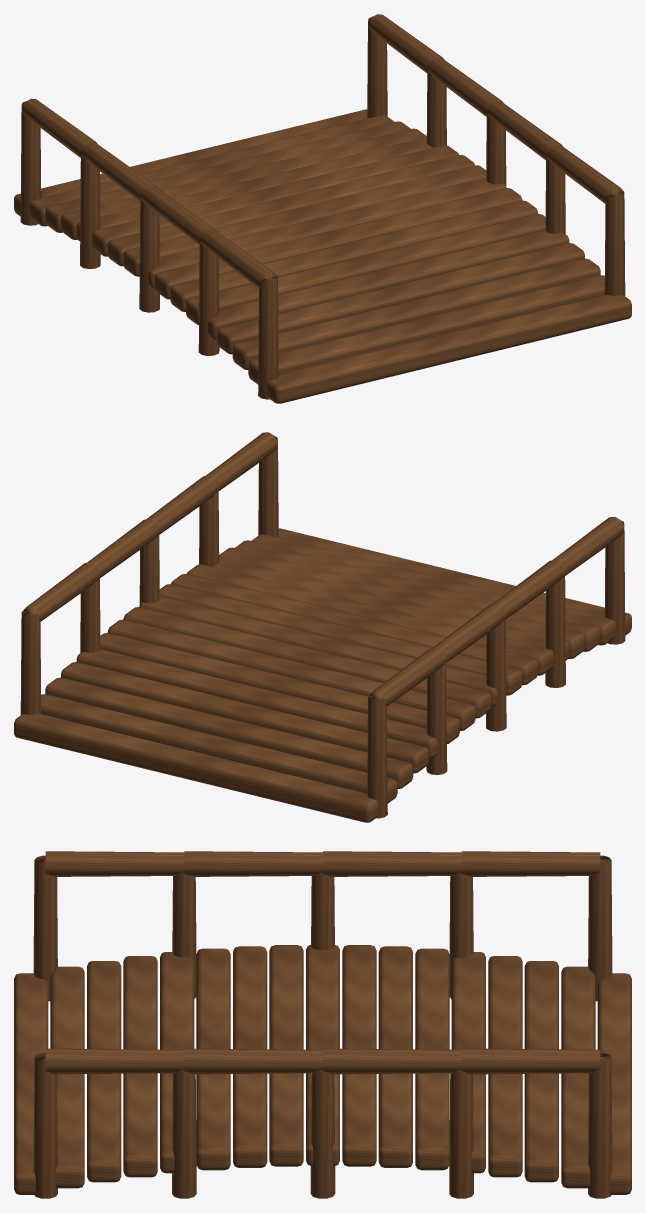
File: timber_bridge.glb
3 views of the same model, one above another, from view 1: azimuth 30°, elevation 25°; view 2: azimuth 150°, elevation 25°; view 3: azimuth 270°, elevation 25° (orthographic). The views are drawn at different scales.
Visible parts, largest first — view 1: Bridge oak deck, Bridge oak deck.001, Bridge oak deck.002, Bridge oak deck.003, Bridge oak deck.004, Bridge oak deck.005, Bridge oak deck.006, Bridge oak deck.007, Bridge oak deck.008, Bridge oak deck.009, Bridge oak deck.010, Bridge oak deck.011 (+23 smaller); view 2: Bridge oak deck.016, Bridge oak deck.015, Bridge oak deck.014, Bridge oak deck.013, Bridge oak deck.012, Bridge oak deck.011, Bridge oak deck.010, Bridge oak deck.009, Bridge oak deck.008, Bridge oak deck.007, Bridge oak deck.006, Bridge oak deck.005 (+23 smaller); view 3: Bridge oak deck.011, Bridge oak deck.003, Bridge oak deck.007, Bridge oak deck.014, Bridge oak deck.010, Bridge oak deck.006, Bridge oak deck.005, Bridge oak deck.002, Bridge oak deck.009, Bridge oak deck.013, Bridge oak deck.015, Bridge oak deck.001 (+23 smaller).
Part boxes in pixels (x1=…): Bridge oak deck: x1=267, y1=294, x2=631, y2=403; Bridge oak deck.001: x1=248, y1=275, x2=604, y2=384; Bridge oak deck.002: x1=232, y1=258, x2=600, y2=369; Bridge oak deck.003: x1=217, y1=243, x2=584, y2=354; Bridge oak deck.004: x1=207, y1=230, x2=569, y2=339; Bridge oak deck.005: x1=186, y1=214, x2=545, y2=324; Bridge oak deck.006: x1=170, y1=200, x2=538, y2=311; Bridge oak deck.007: x1=154, y1=188, x2=522, y2=299; Bridge oak deck.008: x1=139, y1=177, x2=506, y2=287; Bridge oak deck.009: x1=123, y1=165, x2=486, y2=276; Bridge oak deck.010: x1=107, y1=155, x2=474, y2=266; Bridge oak deck.011: x1=92, y1=145, x2=458, y2=256; Bridge oak deck.016: x1=14, y1=713, x2=378, y2=822; Bridge oak deck.015: x1=41, y1=694, x2=397, y2=803; Bridge oak deck.014: x1=45, y1=677, x2=413, y2=788; Bridge oak deck.013: x1=61, y1=662, x2=428, y2=773; Bridge oak deck.012: x1=76, y1=649, x2=438, y2=758; Bridge oak deck.011: x1=100, y1=633, x2=459, y2=743; Bridge oak deck.010: x1=107, y1=619, x2=475, y2=730; Bridge oak deck.009: x1=123, y1=607, x2=491, y2=718; Bridge oak deck.008: x1=139, y1=596, x2=506, y2=706; Bridge oak deck.007: x1=159, y1=584, x2=522, y2=695; Bridge oak deck.006: x1=171, y1=574, x2=538, y2=685; Bridge oak deck.005: x1=187, y1=564, x2=553, y2=675; Bridge oak deck.011: x1=415, y1=948, x2=449, y2=1170; Bridge oak deck.003: x1=123, y1=956, x2=157, y2=1177; Bridge oak deck.007: x1=269, y1=945, x2=303, y2=1166; Bridge oak deck.014: x1=524, y1=961, x2=558, y2=1182; Bridge oak deck.010: x1=378, y1=946, x2=412, y2=1167; Bridge oak deck.006: x1=233, y1=946, x2=267, y2=1167; Bridge oak deck.005: x1=196, y1=948, x2=230, y2=1170; Bridge oak deck.002: x1=87, y1=961, x2=121, y2=1182; Bridge oak deck.009: x1=342, y1=945, x2=376, y2=1166; Bridge oak deck.013: x1=488, y1=956, x2=522, y2=1177; Bridge oak deck.015: x1=561, y1=966, x2=595, y2=1188; Bridge oak deck.001: x1=50, y1=966, x2=84, y2=1188.
Size of the model in its own units: 3.37 by 1.09 by 4.23.
Materials: 2 (2 with a texture image).
